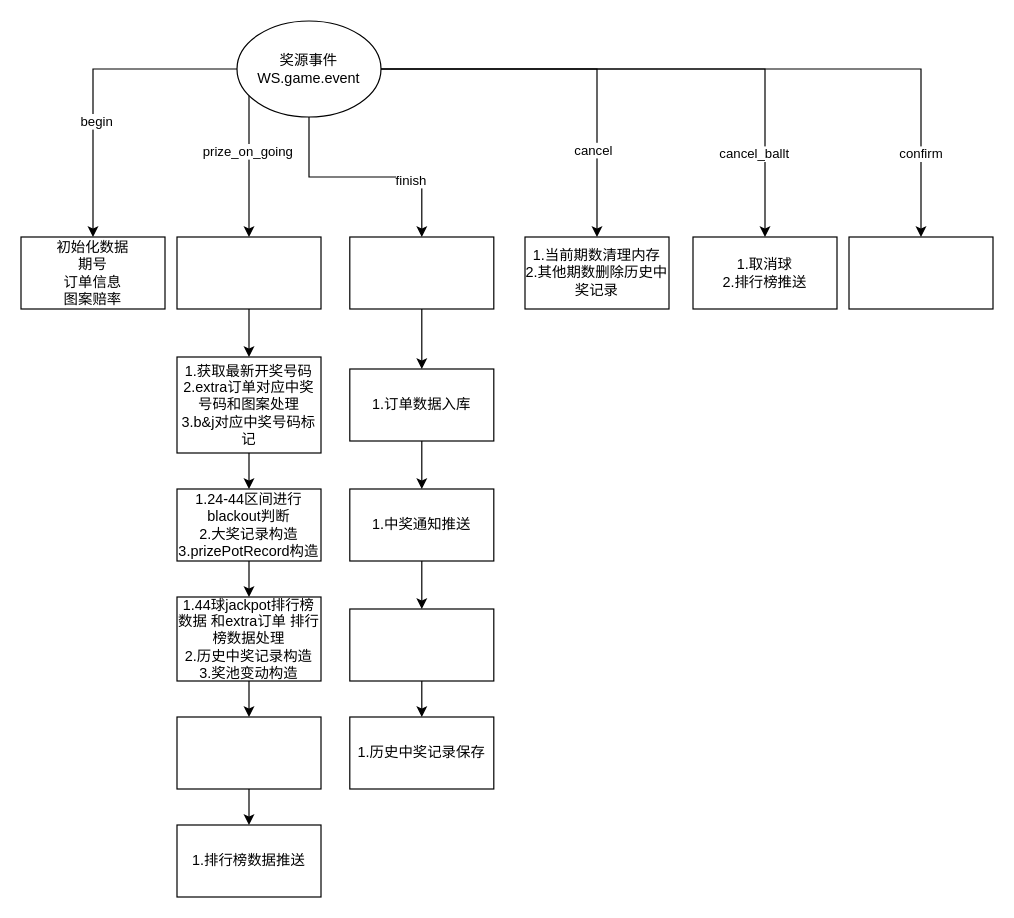
Some shapes in this 1014 by 918 pixel diagram are drawn without their labels. The shapes that lost their labels are listed below. From the top down, each one's box as (x1, y1, x2, y2) in pixels, then its label:
(176, 236, 321, 309): 1.没有初始化数据就初始化
(349, 236, 494, 309): 1.b&j 订单数据处理
(848, 236, 993, 309): 1.44球时中奖通知推送
(349, 608, 494, 681): 1.奖池变动推送
(176, 716, 321, 789): 1.49球bingo 排行榜数据构造 2.历史中奖记录构造 3.奖池变动构造
